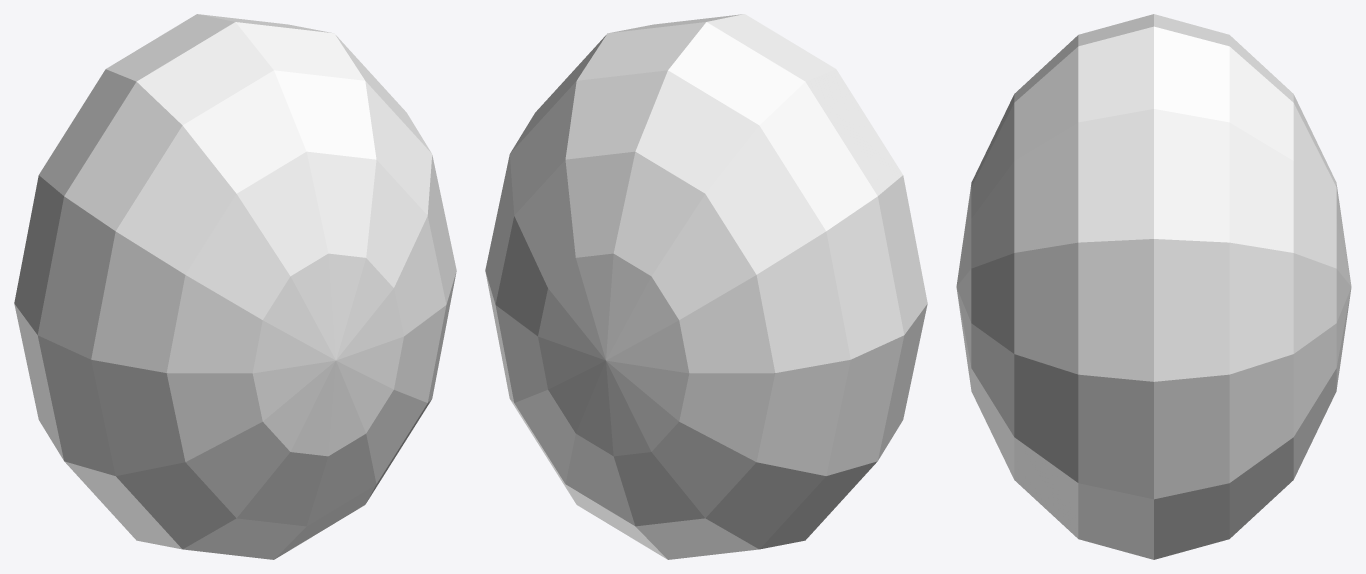
Rendered from head_bean.glb.
The picture shows the model from 3 angles, left to right: view 1: azimuth 30°, elevation 25°; view 2: azimuth 150°, elevation 25°; view 3: azimuth 270°, elevation 25°; orthographic projection.
Parts seen in each view (by area): view 1: head_bean; view 2: head_bean; view 3: head_bean.
Part boxes in pixels (box(x1,y1,x2,y2)): head_bean: box(14, 14, 456, 559); head_bean: box(485, 14, 927, 559); head_bean: box(956, 14, 1351, 559).
Size of the model in its own units: 0.5 by 0.64 by 0.44.
1 material, 1 textured.
